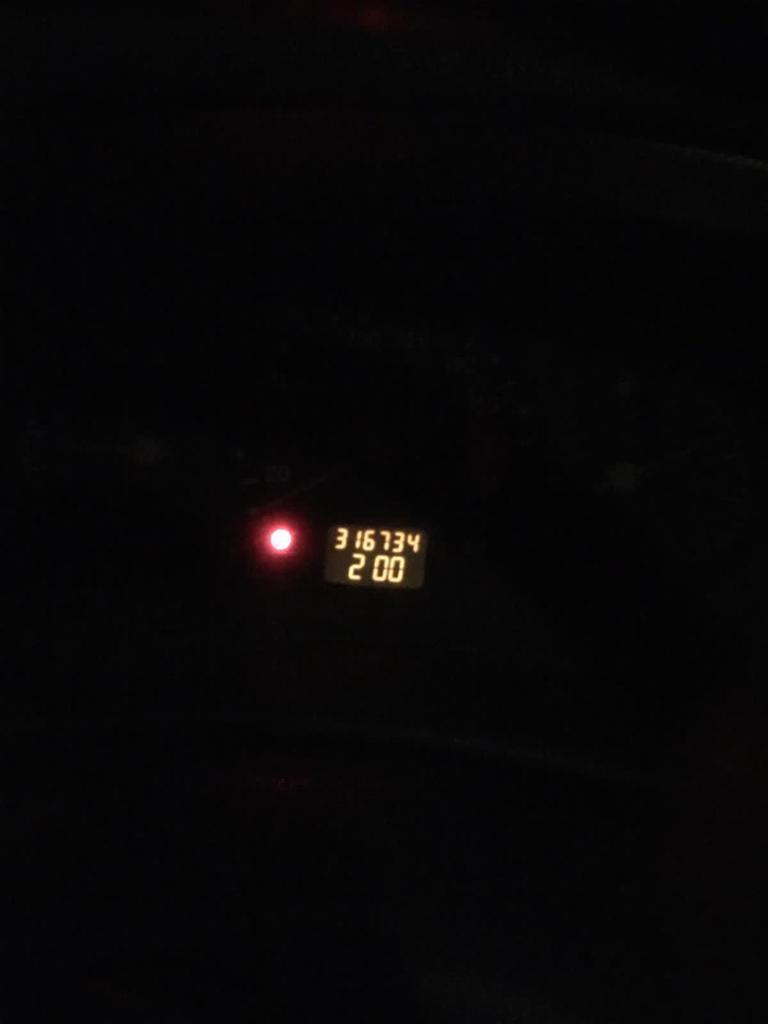0: (389, 554, 405, 583), (371, 553, 387, 581)
1: (354, 528, 362, 550)
2: (348, 552, 366, 580)
3: (335, 526, 348, 550), (393, 530, 405, 553)
4: (407, 531, 420, 554)
6: (363, 528, 376, 551)
7: (378, 528, 391, 551)
odometer: (318, 522, 430, 594)
